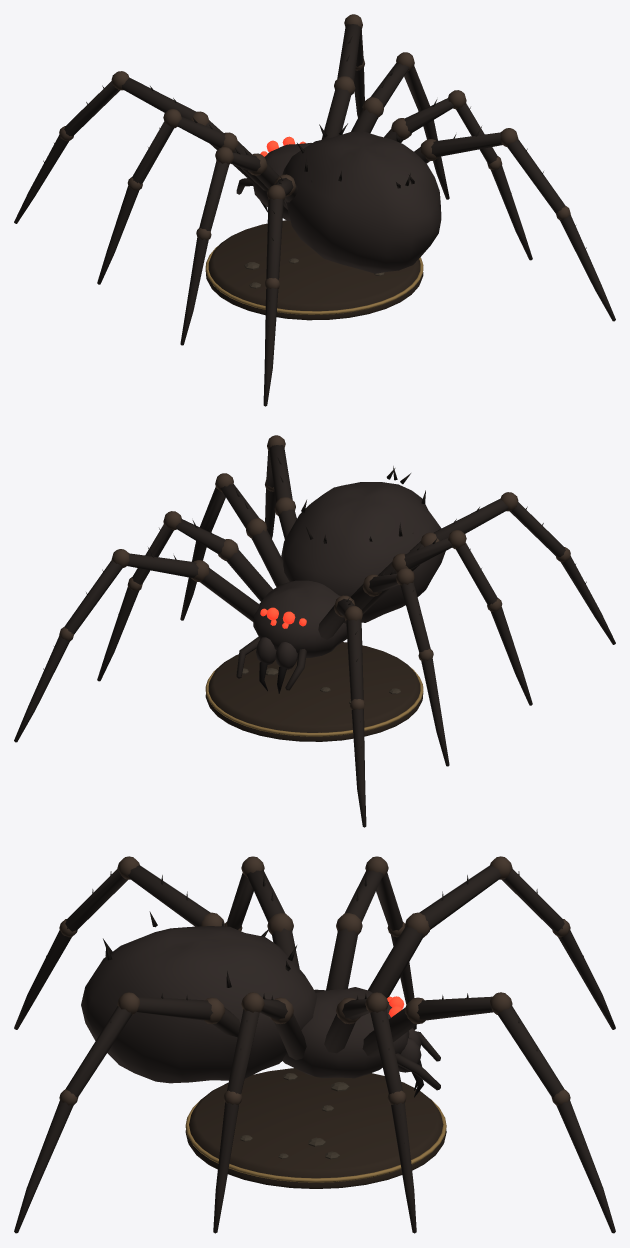
Rendered from spider.glb.
3 views of the same model, one above another, from view 1: azimuth 30°, elevation 25°; view 2: azimuth 150°, elevation 25°; view 3: azimuth 270°, elevation 25° (orthographic). The views are drawn at different scales.
Parts seen in each view (by area): view 1: Torso, Base, Leg3R, Leg0L, Leg1L, Leg2L, Leg3L, Leg2R, Leg0R, Leg1R; view 2: Torso, Base, Leg0R, Leg1R, Leg0L, Leg3L, Leg2L, Leg2R, Leg1L, Leg3R; view 3: Torso, Base, Leg0L, Leg0R, Leg3R, Leg2R, Leg3L, Leg1R, Leg1L, Leg2L.
Part boxes in pixels (box(x1,y1,x2,y2)): Torso: box(236, 123, 441, 273); Base: box(205, 220, 423, 320); Leg3R: box(414, 128, 615, 321); Leg0L: box(14, 71, 253, 223); Leg1L: box(97, 109, 267, 284); Leg2L: box(180, 147, 287, 345); Leg3L: box(263, 174, 297, 406); Leg2R: box(384, 90, 532, 260); Leg0R: box(321, 14, 364, 139); Leg1R: box(351, 52, 449, 199); Torso: box(236, 466, 445, 693); Base: box(205, 642, 423, 741); Leg0R: box(14, 549, 259, 742); Leg1R: box(97, 511, 272, 681); Leg0L: box(318, 595, 366, 827); Leg3L: box(408, 492, 615, 644); Leg2L: box(362, 530, 532, 705); Leg2R: box(180, 473, 289, 620); Leg1L: box(343, 568, 449, 766); Leg3R: box(265, 435, 296, 539); Torso: box(81, 911, 440, 1097); Base: box(185, 1068, 446, 1188); Leg0L: box(368, 856, 615, 1029); Leg0R: box(362, 992, 615, 1233); Leg3R: box(14, 992, 240, 1233); Leg2R: box(213, 992, 306, 1233); Leg3L: box(14, 856, 225, 1029); Leg1R: box(324, 992, 416, 1233); Leg1L: box(326, 856, 416, 1029); Leg2L: box(225, 856, 299, 968).
Size of the model in its own units: 2.18 by 1.03 by 2.7.
